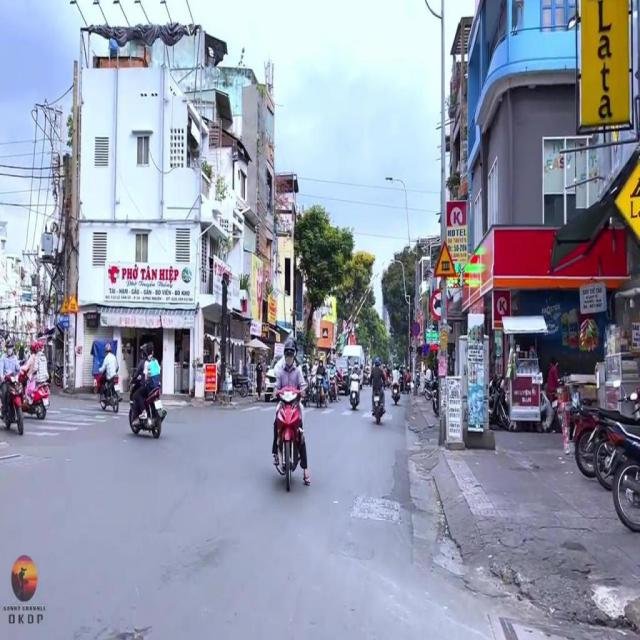cam_o_to_tai: (429, 290, 442, 322)
khac: (432, 238, 458, 279), (67, 290, 80, 314)
nguy_hiem_khac: (60, 288, 69, 313)
